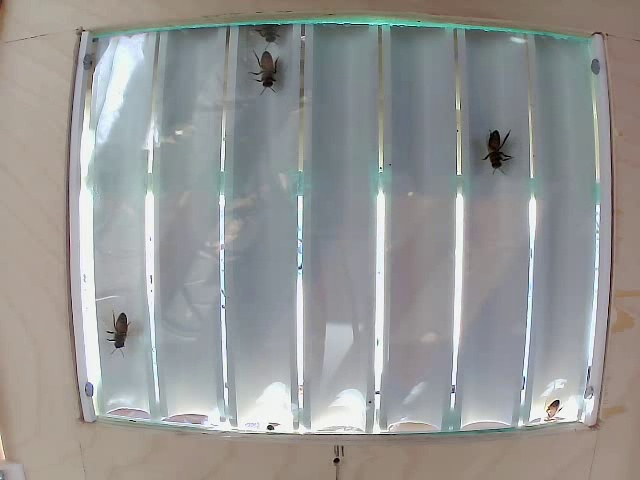bee: (474, 120, 509, 184), (107, 307, 135, 355), (249, 47, 280, 90)
